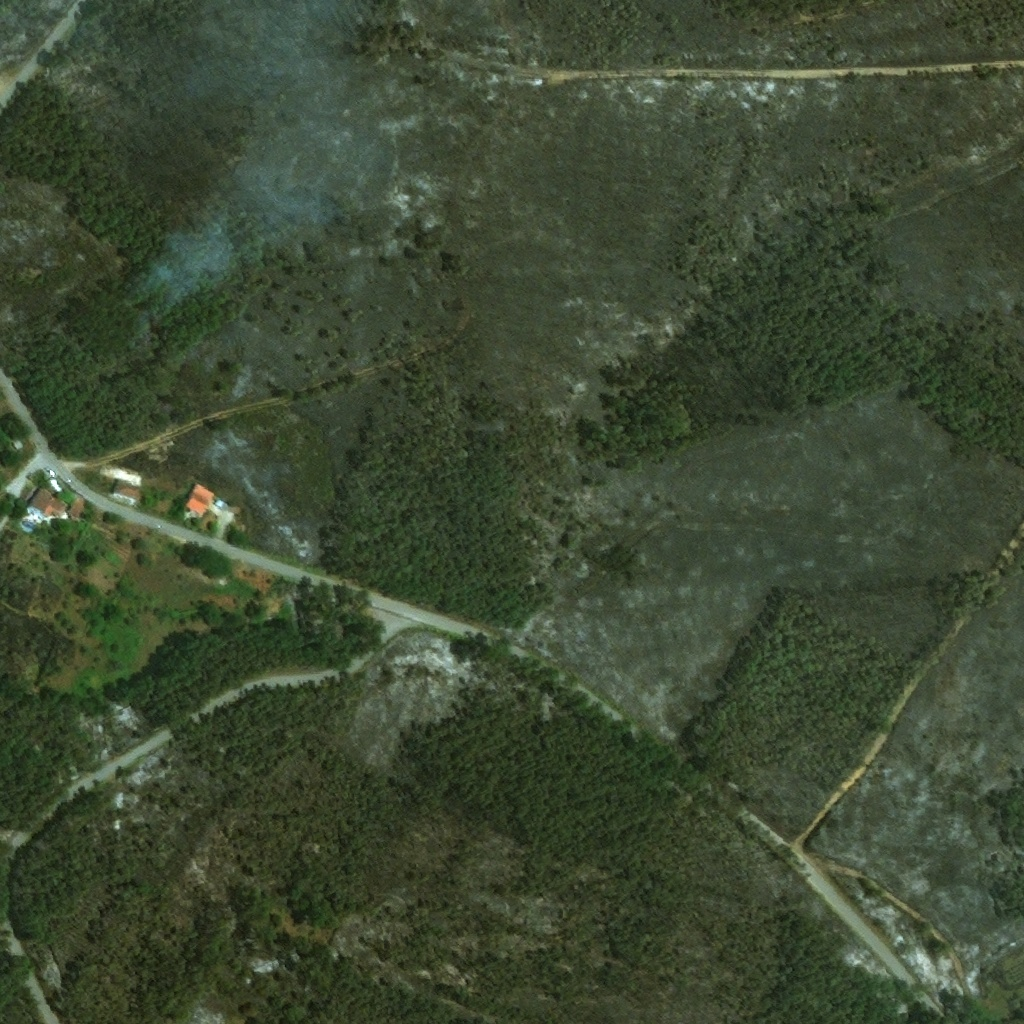0 no-damage: (29, 488, 68, 520), (184, 484, 216, 519), (113, 481, 140, 501), (214, 498, 241, 517), (67, 498, 86, 518), (12, 440, 24, 451)
